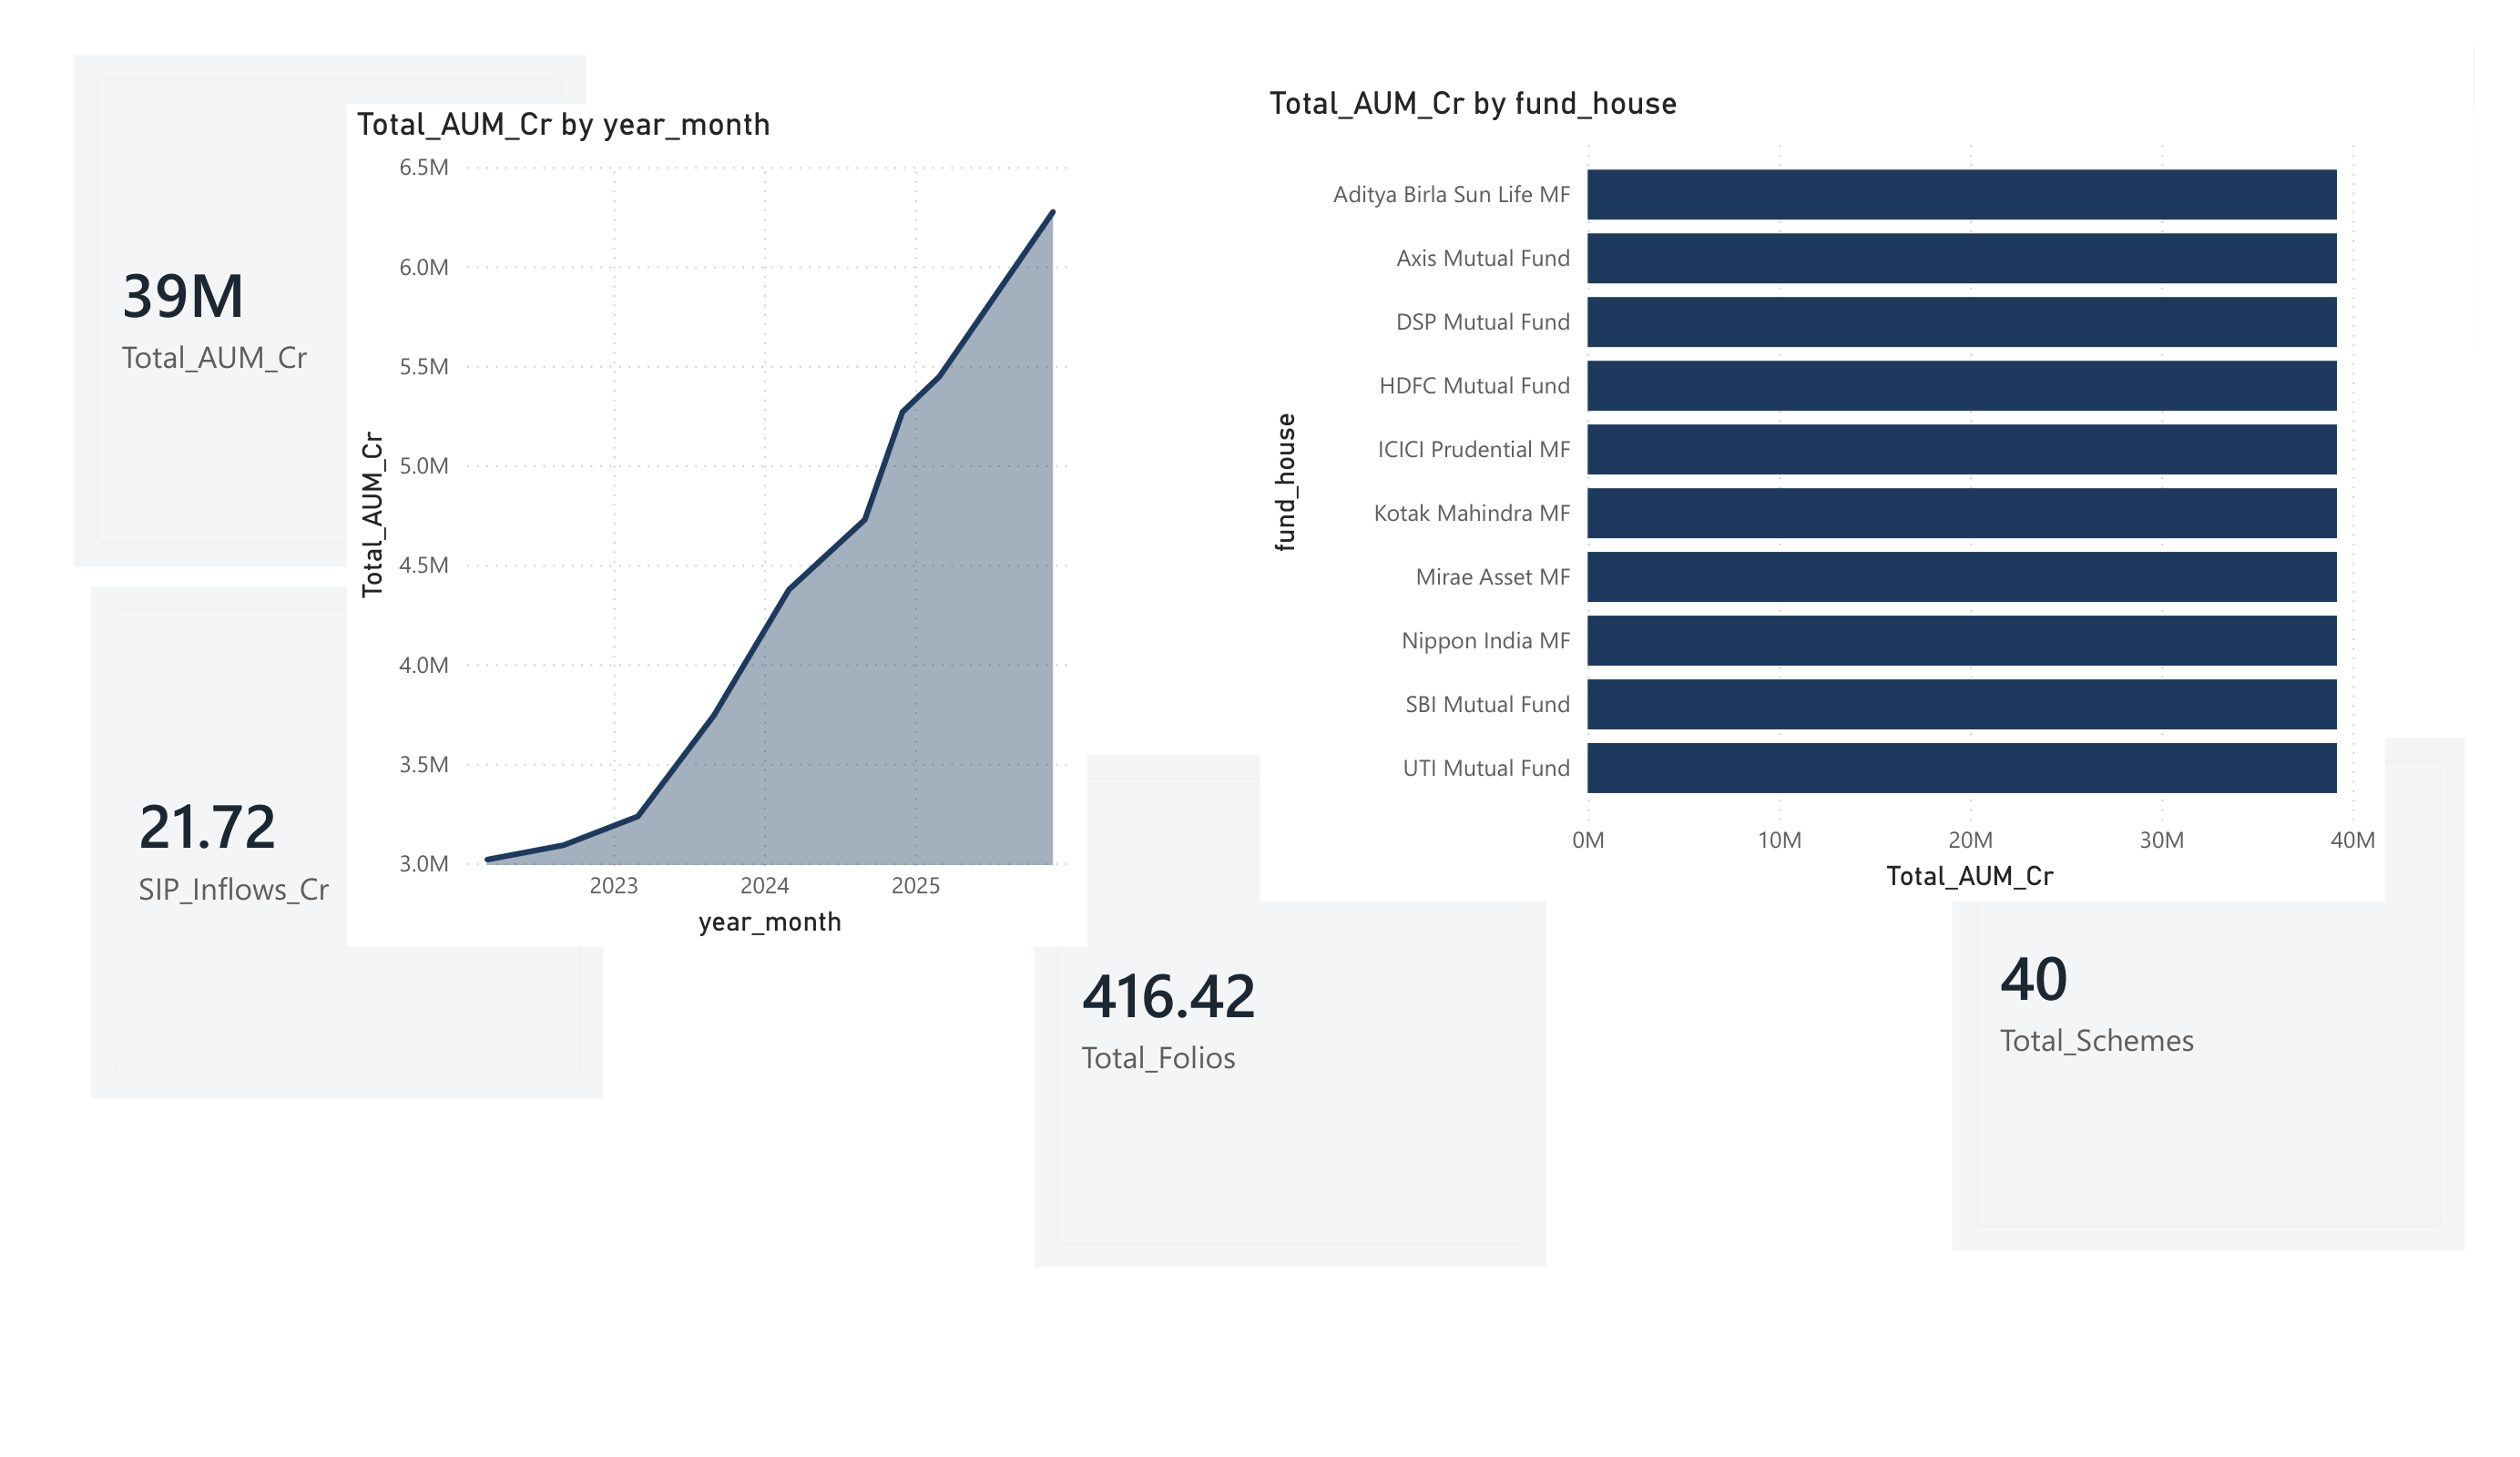

What the dashboard file says about the page in this screenshot:
{"tool":"powerbi","page":{"name":"Industry Overview","canvas":[1280,720],"ordinal":0},"visuals":[{"type":"cardVisual","fields":{"Data":["fact_aum.Total_AUM_Cr"]},"box":[10,0,280,280],"z":0},{"type":"cardVisual","fields":{"Data":["fact_aum.SIP_Inflows_Cr"]},"box":[19,280,280,280],"z":1000},{"type":"cardVisual","fields":{"Data":["fact_aum.Total_Folios"]},"box":[516,369,280,280],"z":2000},{"type":"cardVisual","fields":{"Data":["fact_aum.Total_Schemes"]},"box":[1000,360,280,280],"z":3000},{"type":"areaChart","fields":{"Y":["fact_aum.Total_AUM_Cr"],"Category":["dim_date.year_month"]},"box":[159,31,390,444],"z":4000},{"type":"barChart","fields":{"Category":["dim_fund.fund_house"],"Y":["fact_aum.Total_AUM_Cr"]},"box":[640,20,593,431],"z":5000}]}

Visuals, with their boxes on the page's 1280x720 design canvas (x1, y1, x2, y2). These are canvas units, not pixel positions in the 2520x1457 screenshot, which may show the page scaled, cropped or inside an application window:
cardVisual - fact_aum.Total_AUM_Cr: pyautogui.locateOnScreen(10, 0, 290, 280)
cardVisual - fact_aum.SIP_Inflows_Cr: pyautogui.locateOnScreen(19, 280, 299, 560)
cardVisual - fact_aum.Total_Folios: pyautogui.locateOnScreen(516, 369, 796, 649)
cardVisual - fact_aum.Total_Schemes: pyautogui.locateOnScreen(1000, 360, 1280, 640)
areaChart - fact_aum.Total_AUM_Cr x dim_date.year_month: pyautogui.locateOnScreen(159, 31, 549, 475)
barChart - dim_fund.fund_house x fact_aum.Total_AUM_Cr: pyautogui.locateOnScreen(640, 20, 1233, 451)
